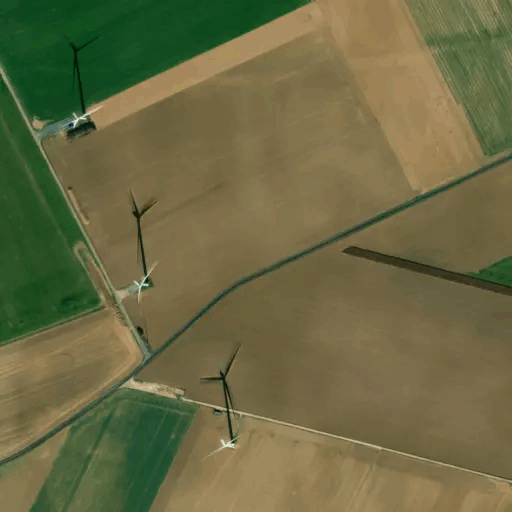wt: (192, 332, 257, 464), (113, 185, 167, 310), (56, 26, 105, 145)
